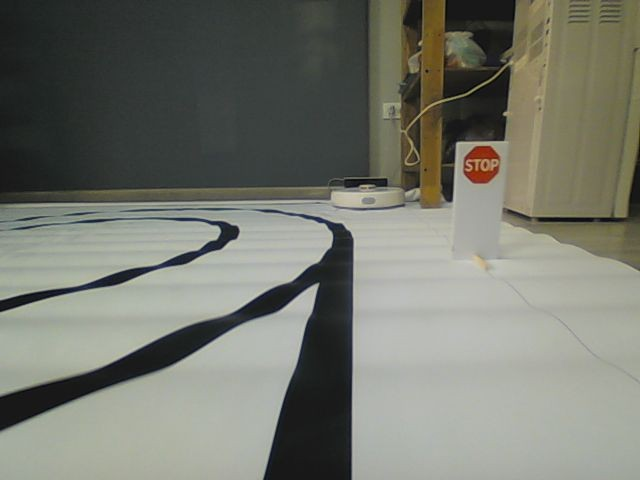Stop: (461, 143, 502, 187)
